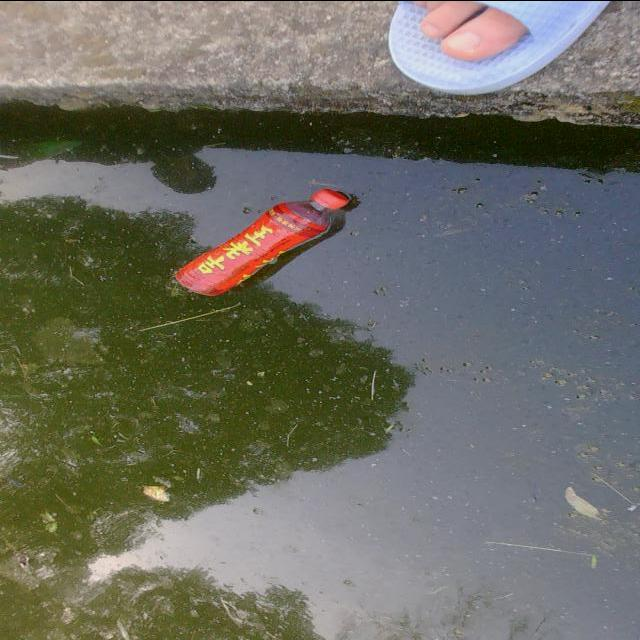bottle: (168, 172, 356, 312)
